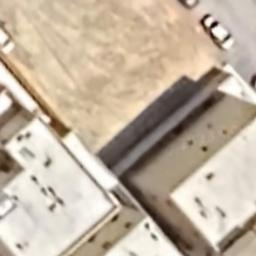sedan: (200, 13, 234, 52)
